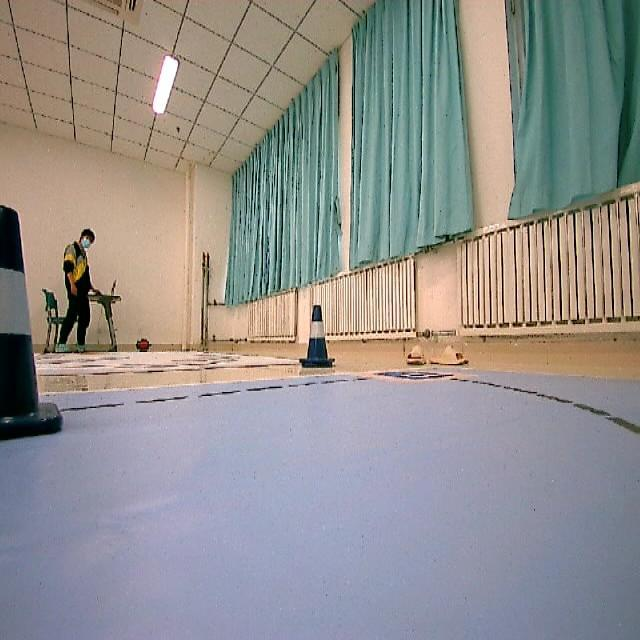obstacle: (0, 195, 65, 459), (296, 302, 340, 378)
